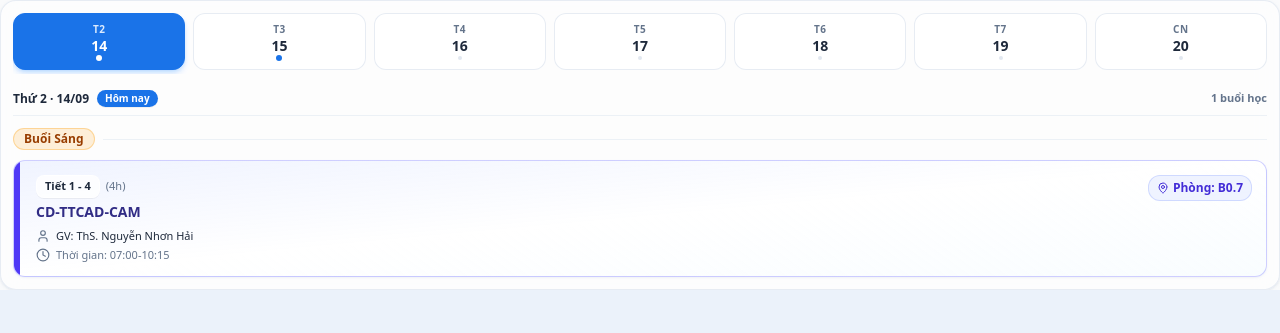
it: TimetableMobileView › switches day on tapping another day in the strip
Click the button "T3 15": x=279, y=42 top-left (193, 13), bottom-right (366, 70)
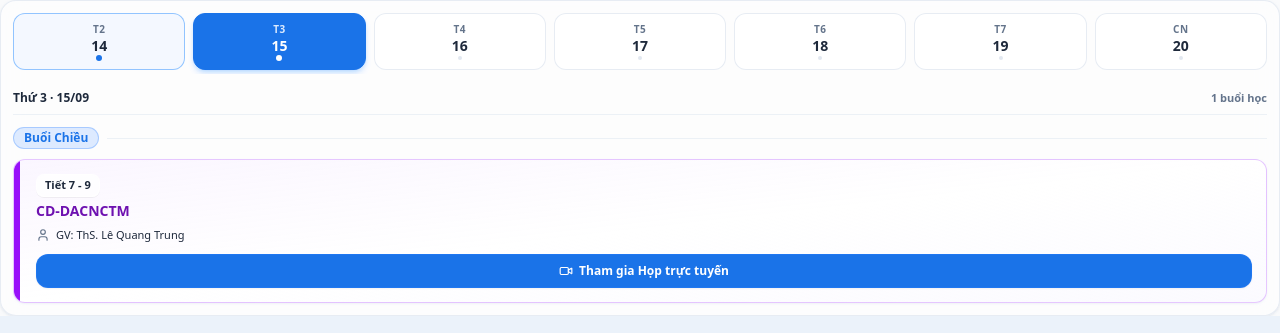
Check: the heading "CD-DACNCTM" is shown, box top-left (36, 200), bottom-right (130, 220)
Check: the text "GV: ThS. Lê Quang Trung" is shown, box top-left (56, 228), bottom-right (184, 242)
